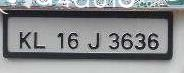1: (57, 32, 65, 49)
3: (134, 32, 147, 50), (107, 32, 120, 49)
6: (147, 32, 160, 51), (66, 32, 80, 49), (121, 32, 134, 50)
J: (86, 32, 102, 50)
K: (18, 31, 34, 49)
L: (32, 31, 47, 49)
